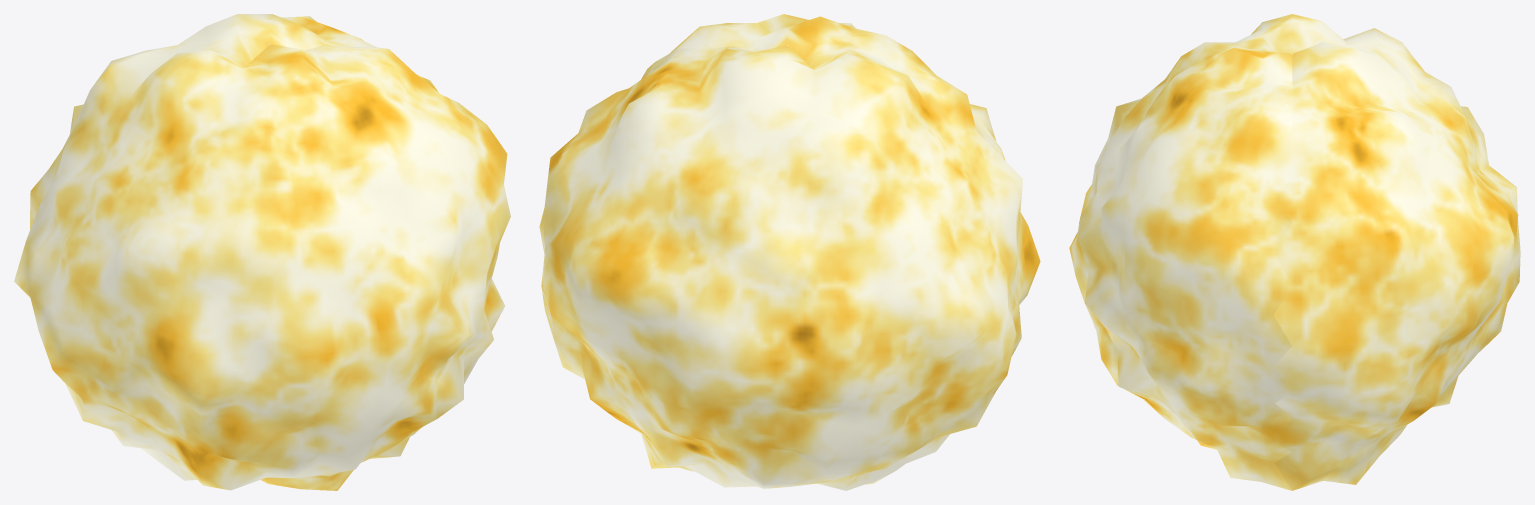
File: fireball_gold.glb
The picture shows the model from 3 angles, left to right: view 1: azimuth 30°, elevation 25°; view 2: azimuth 150°, elevation 25°; view 3: azimuth 270°, elevation 25°; orthographic projection. The views are drawn at different scales.
Visible parts, largest first — view 1: fireball; view 2: fireball; view 3: fireball.
Boxes of the visible parts, bbox=[...] form: fireball: bbox=[14, 14, 510, 490]; fireball: bbox=[539, 14, 1040, 490]; fireball: bbox=[1069, 14, 1520, 490].
Bounding box in the file's own units: 2.29 × 2.14 × 2.2.
1 material, 1 textured.
